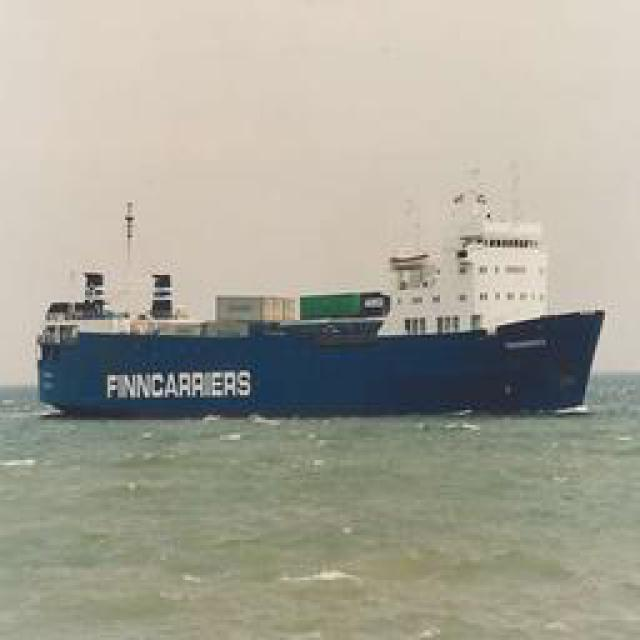Ship: (26, 282, 615, 417)
